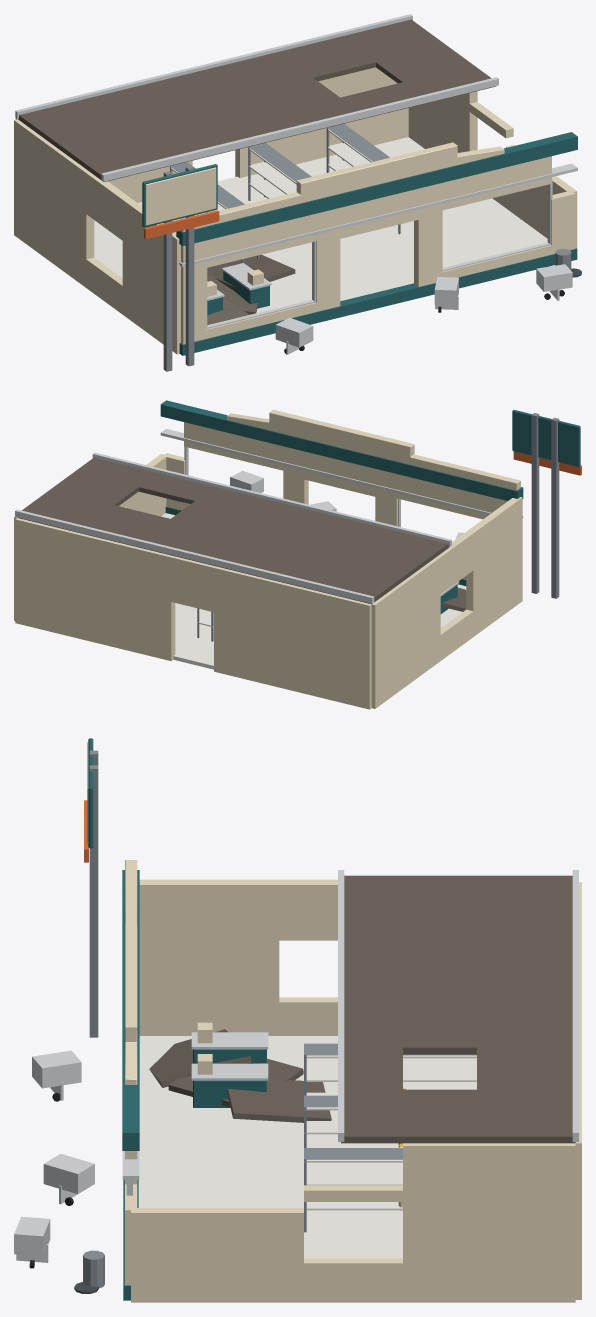
File: Bldg_Grocery.fbx
3 renders of one model, top to bottom at view 1: azimuth 30°, elevation 25°; view 2: azimuth 150°, elevation 25°; view 3: azimuth 270°, elevation 25°, orthographic. The views are drawn at different scales.
Parts seen in each view (by area): view 1: Decor, Roof, Floor, Wall13, Wall10, FalseFront, Wall20, Wall17, Sign1, Wall3, Wall8, Wall6 (+15 smaller); view 2: Roof, Decor, Wall20, Wall18, Wall13, Wall10, FalseFront, Floor, Wall8, Wall3, Wall19, Wall5 (+6 smaller); view 3: Roof, Decor, Wall17, Floor, Wall10, Wall14, Wall15, Wall12, FalseFront, Wall11, Checkout, Wall16 (+3 smaller).
Boxes of the visible parts, bbox=[...] form: Decor: bbox=[15, 14, 581, 371]; Roof: bbox=[18, 19, 496, 181]; Floor: bbox=[94, 137, 547, 313]; Wall13: bbox=[14, 119, 94, 287]; Wall10: bbox=[122, 198, 180, 354]; FalseFront: bbox=[182, 142, 504, 231]; Wall20: bbox=[235, 67, 408, 177]; Wall17: bbox=[408, 91, 477, 152]; Sign1: bbox=[145, 167, 216, 225]; Wall3: bbox=[206, 213, 316, 267]; Wall8: bbox=[442, 156, 551, 209]; Wall6: bbox=[414, 183, 442, 286]; Roof: bbox=[18, 457, 449, 604]; Decor: bbox=[15, 400, 581, 641]; Wall20: bbox=[15, 518, 175, 660]; Wall18: bbox=[214, 566, 371, 709]; Wall13: bbox=[371, 556, 440, 708]; Wall10: bbox=[466, 497, 522, 636]; FalseFront: bbox=[226, 409, 520, 490]; Floor: bbox=[161, 513, 466, 669]; Wall8: bbox=[184, 422, 283, 470]; Wall3: bbox=[396, 474, 495, 519]; Wall19: bbox=[171, 556, 215, 612]; Wall5: bbox=[304, 451, 375, 496]; Roof: bbox=[341, 875, 575, 1143]; Decor: bbox=[14, 738, 578, 1300]; Wall17: bbox=[403, 1143, 575, 1302]; Floor: bbox=[138, 1036, 476, 1258]; Wall10: bbox=[139, 879, 279, 1035]; Wall14: bbox=[131, 1208, 303, 1302]; Wall15: bbox=[304, 1258, 402, 1302]; Wall12: bbox=[279, 879, 337, 940]; FalseFront: bbox=[125, 860, 137, 1084]; Wall11: bbox=[279, 997, 337, 1035]; Checkout: bbox=[193, 1049, 266, 1107]; Wall16: bbox=[304, 1185, 402, 1201].
Bounding box in the file's own units: 57.25 × 24.56 × 45.98.
